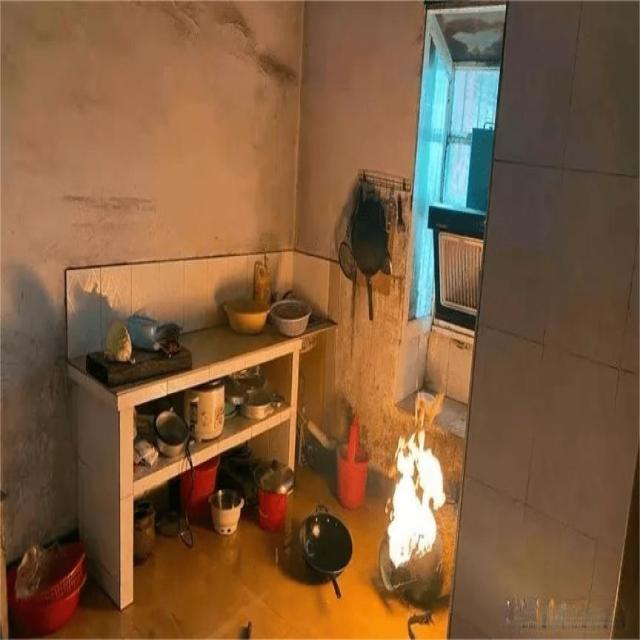Fire: (383, 392, 446, 572)
